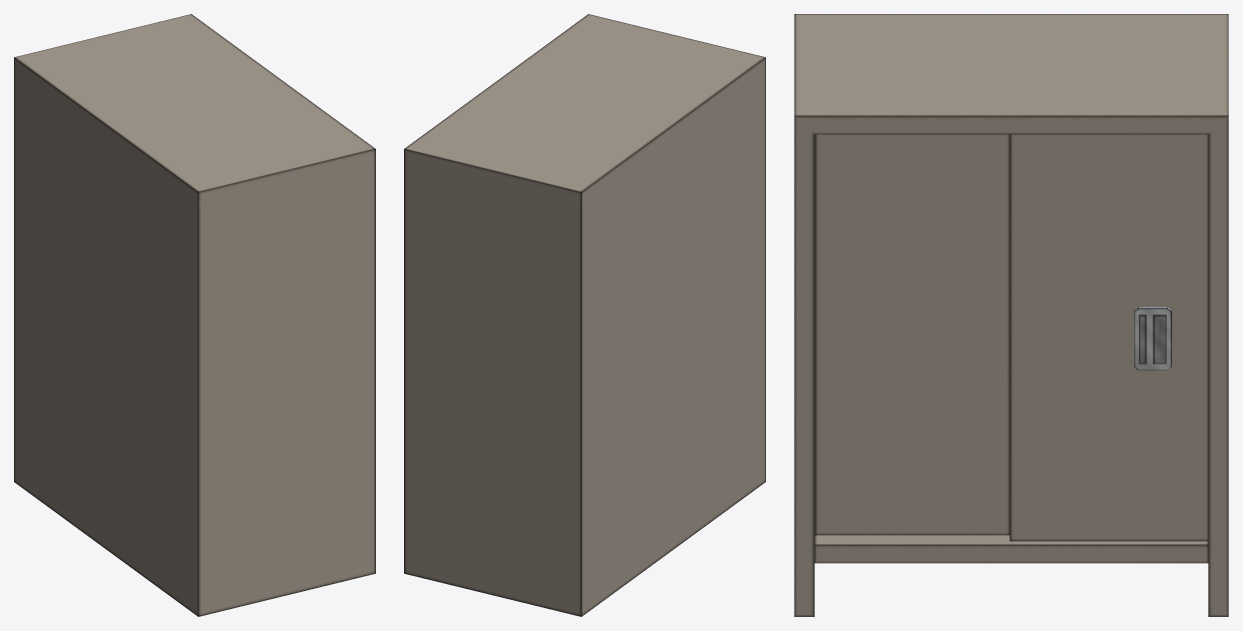
The model's file is shelf2_static.fbx.
3 views of the same model, side by side, from view 1: azimuth 30°, elevation 25°; view 2: azimuth 150°, elevation 25°; view 3: azimuth 270°, elevation 25° (orthographic). The views are drawn at different scales.
Parts seen in each view (by area): view 1: polySurface452; view 2: polySurface452; view 3: polySurface452.
Part boxes in pixels (<box>): polySurface452: <box>14,14,375,616</box>; polySurface452: <box>404,14,765,616</box>; polySurface452: <box>794,14,1228,616</box>.
Bounding box in the file's own units: 0.8622 × 1.97 × 1.55.
